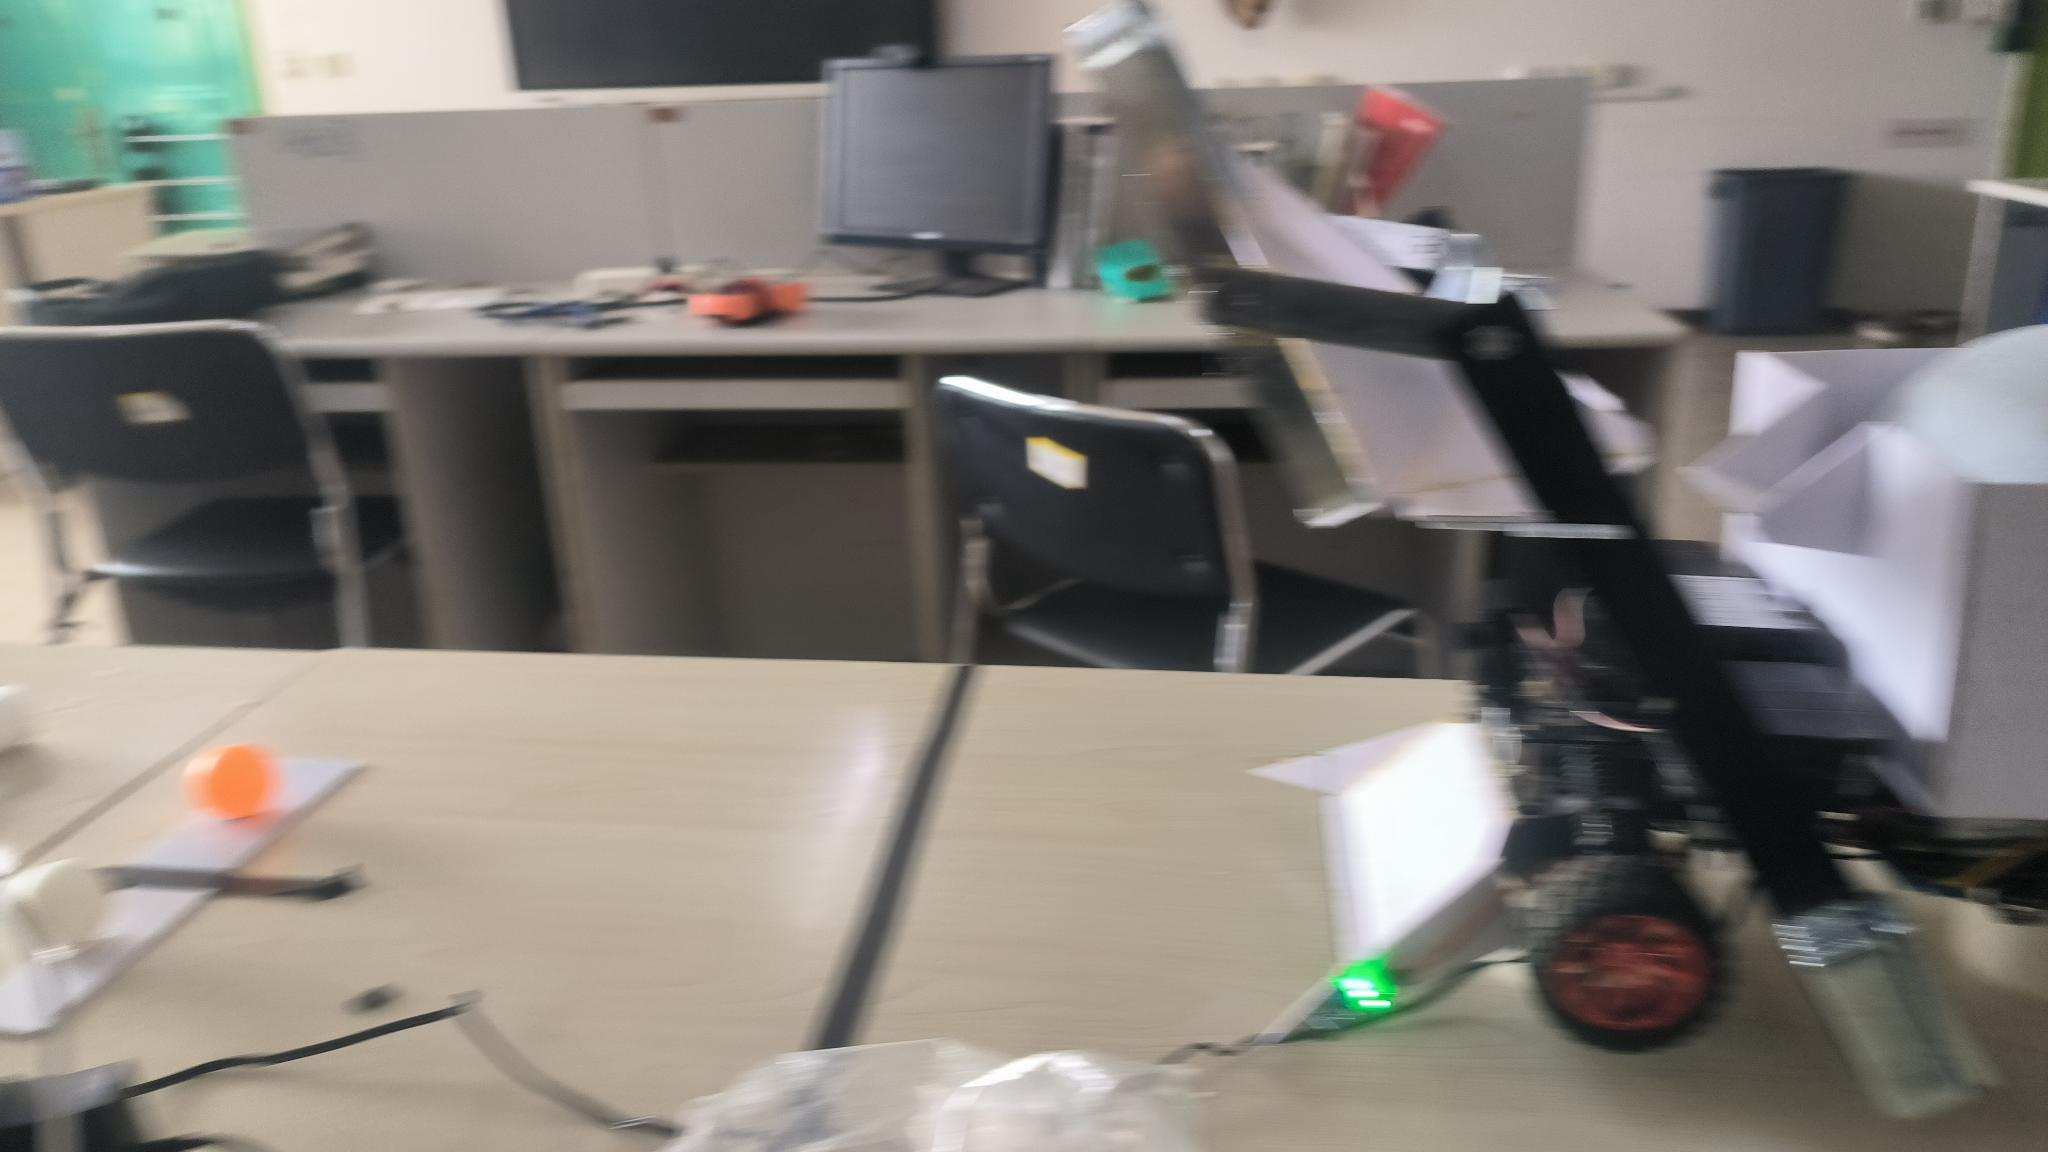ball: (20, 862, 107, 948), (184, 741, 276, 819)
